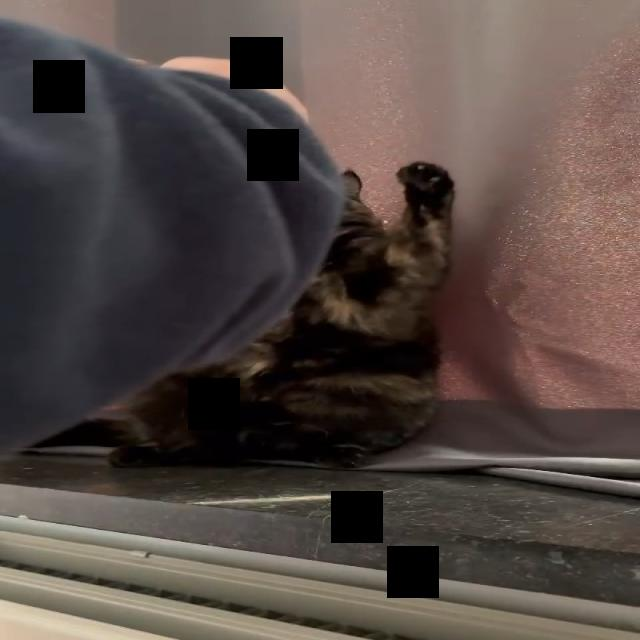authorized: (103, 161, 457, 469)
